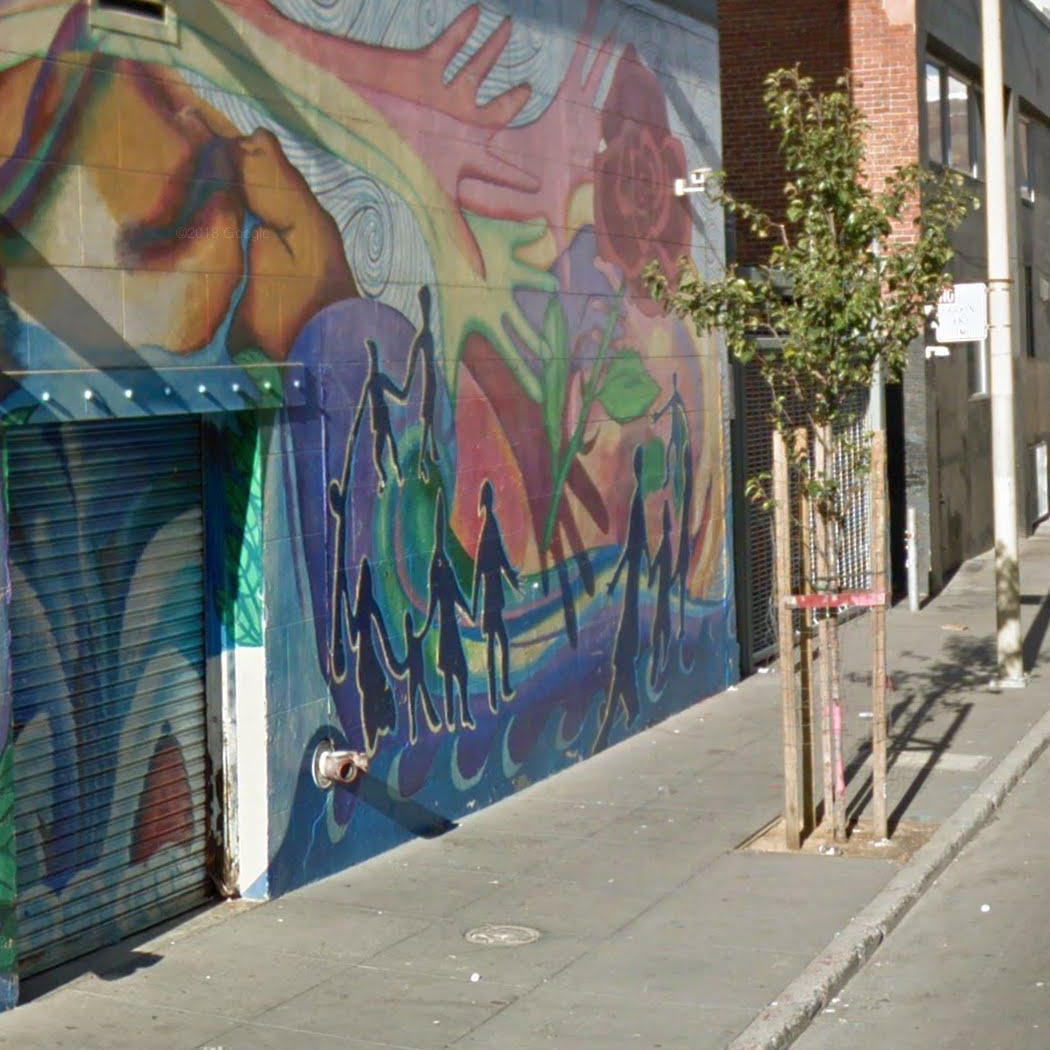No Parking: (933, 281, 989, 345)
